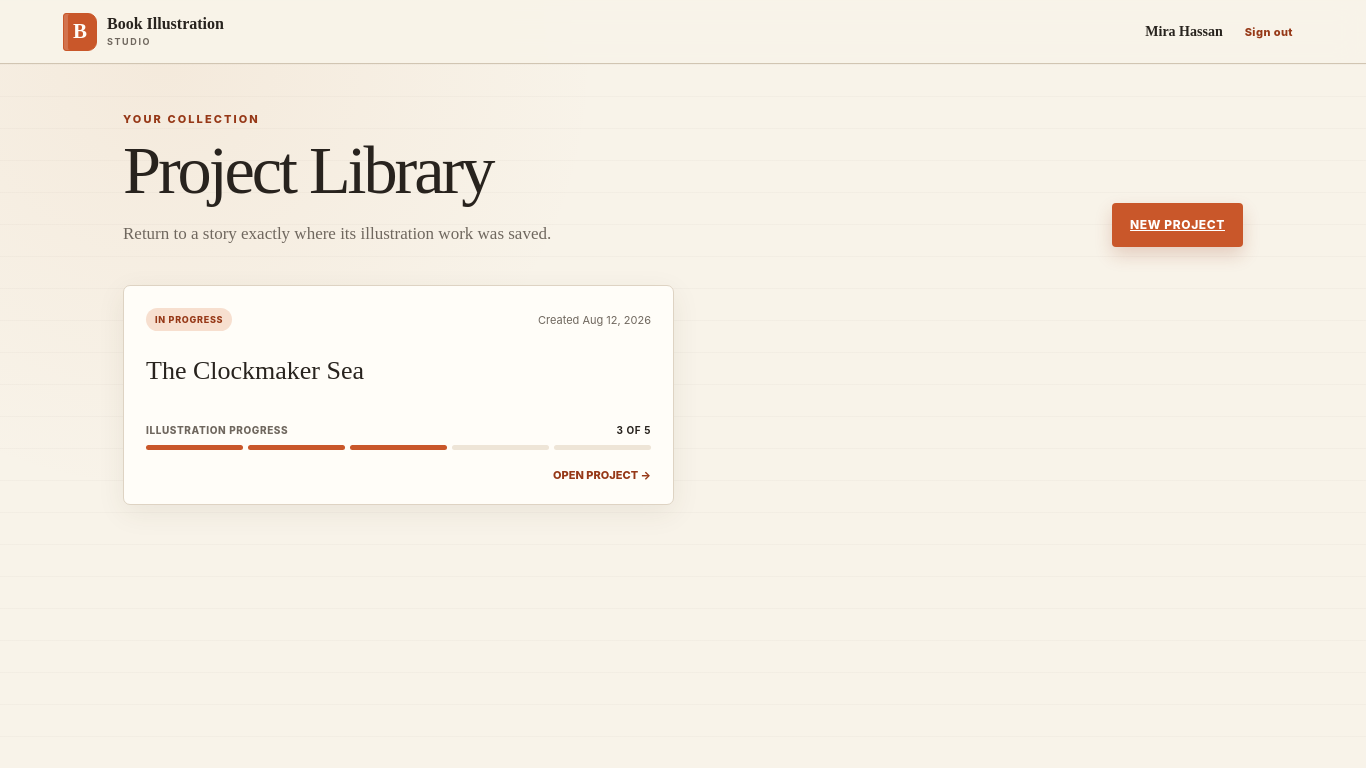
Test: application flows › renders project status and five-step progress and opens a project
Expected: the text "In progress" is shown, [146,308,232,332]
Expected: the text "3 of 5" is shown, [616,424,651,436]
Click the link "The Clockmaker Sea" at (189, 320), box [123,286,674,506]
(page scrolled)
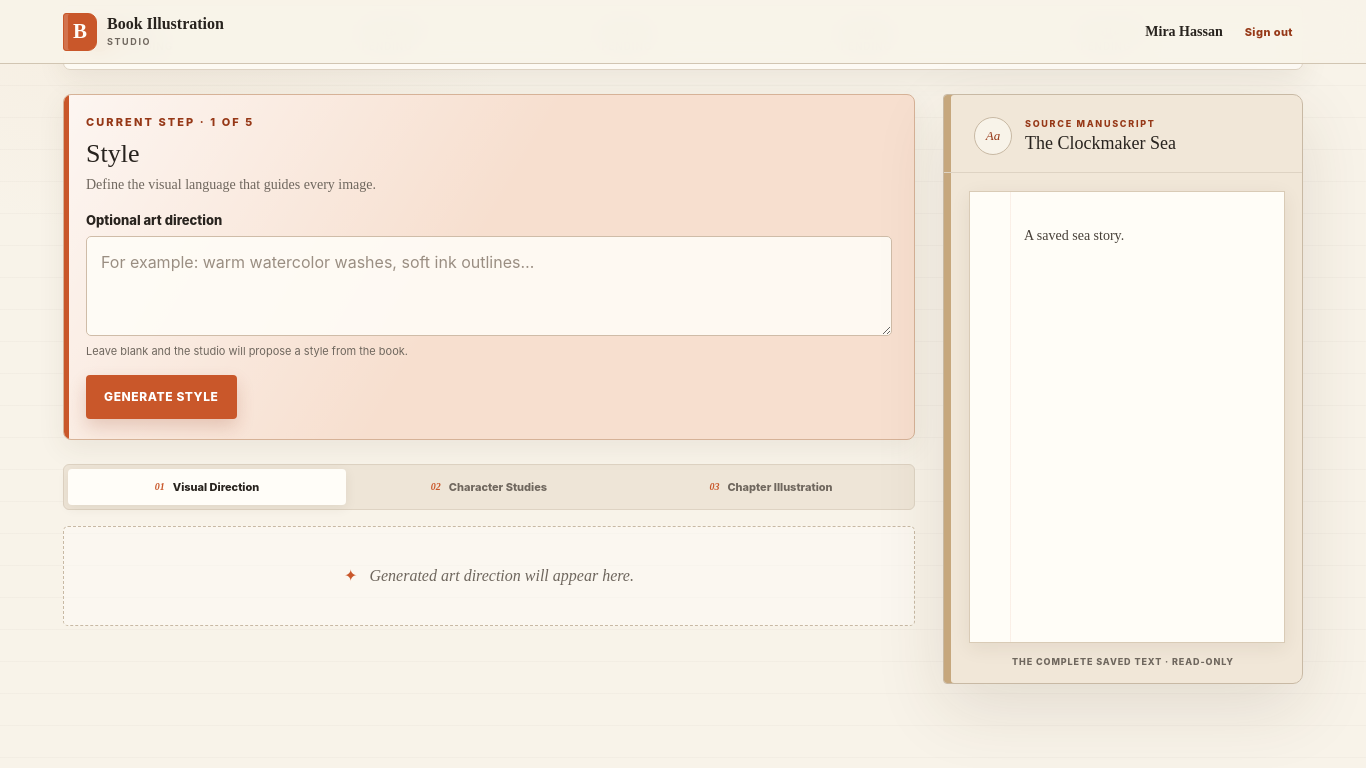
Result: the text "A saved sea story." is shown at [1024,228,1124,243]
